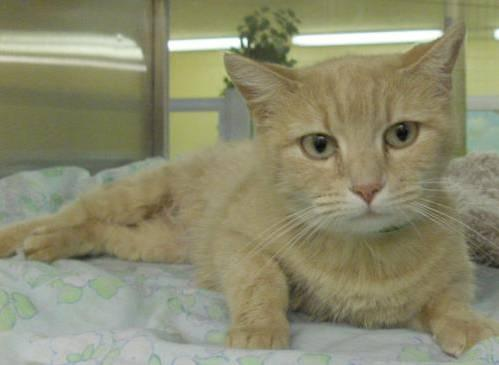cat: (0, 23, 498, 355)
